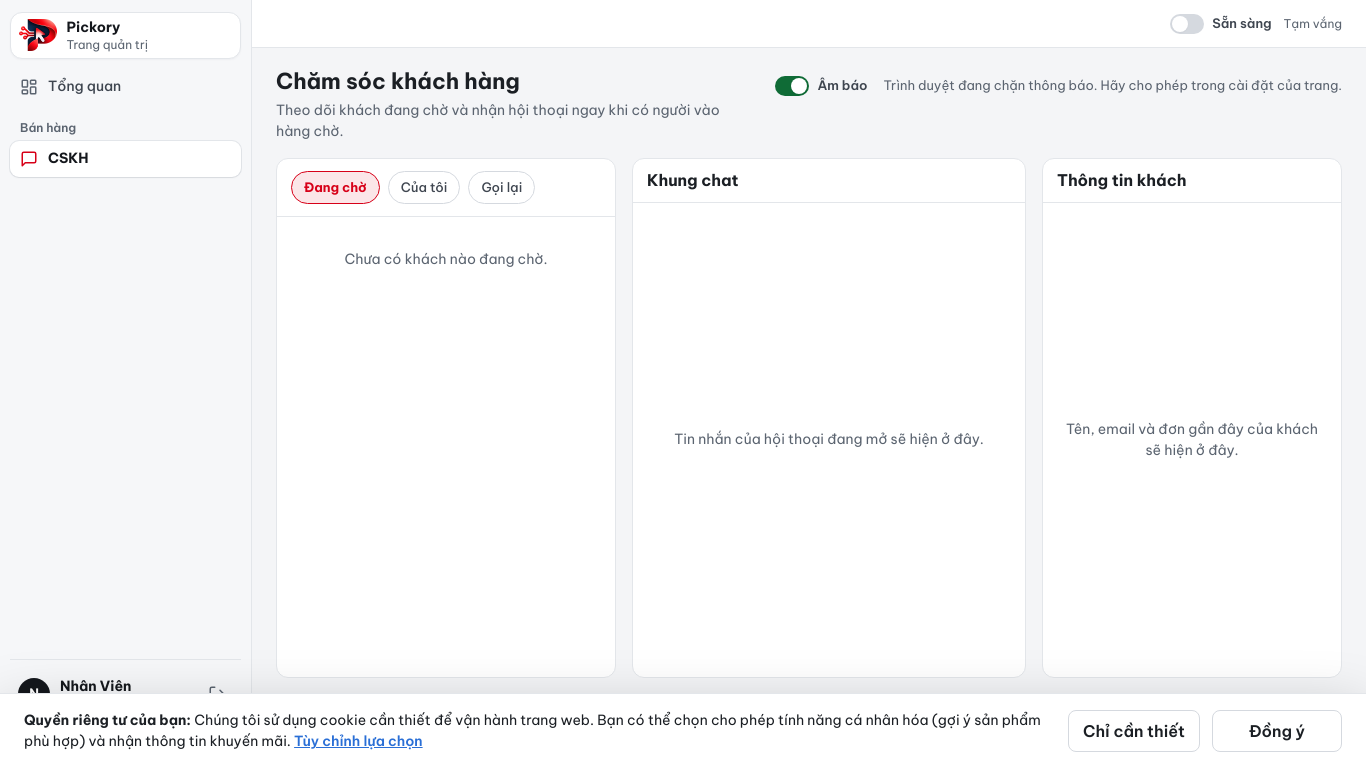
Test case: PresenceToggle › PUT lỗi thì giữ trạng thái cũ và báo lỗi ngắn
The image size is (1366, 768).
Click the switch labelled "Sẵn sàng": (1221, 24) x1=1166 y1=6 x2=1276 y2=42
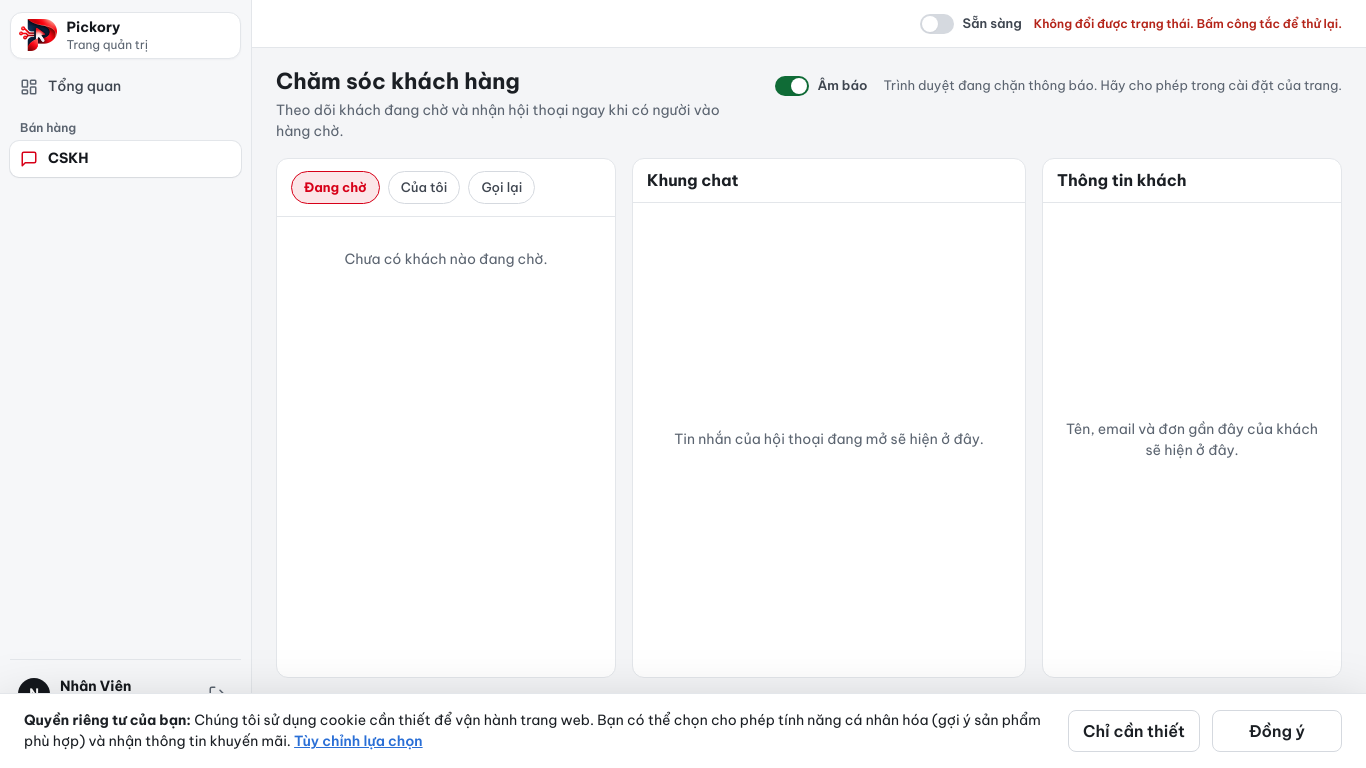
Expected: the header with class "admin-top" shows "Không đổi được trạng thái", x1=1034 y1=16 x2=1342 y2=30
